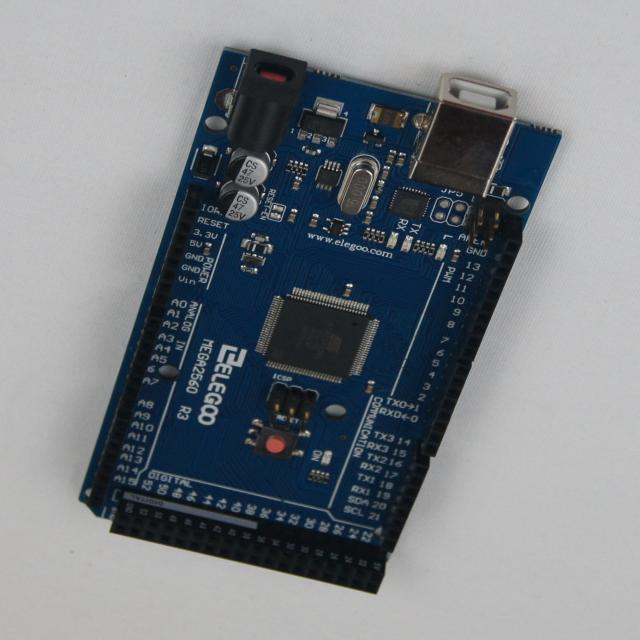Arduino Mega 2560 -Blue-: (80, 49, 561, 594)
